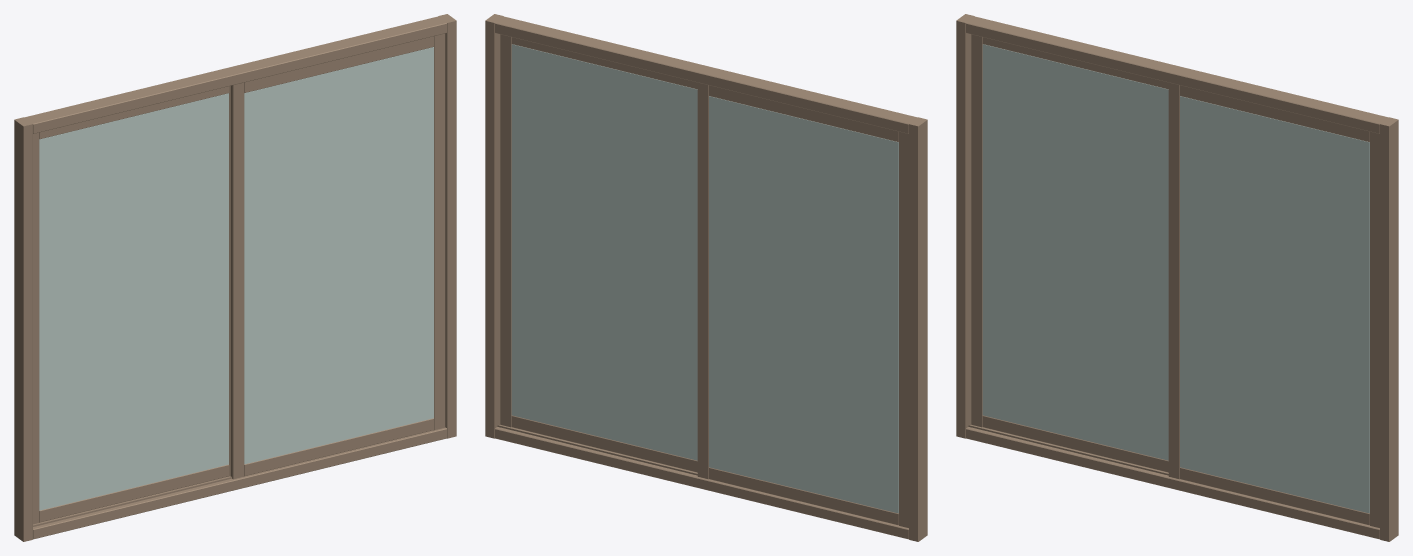
Rendered from co-S90RP-2-quartz-1019.glb.
3 renders of one model, left to right at view 1: azimuth 30°, elevation 25°; view 2: azimuth 150°, elevation 25°; view 3: azimuth 330°, elevation 25°, orthographic.
Visible parts, largest first — view 1: verre, structure; view 2: verre, structure; view 3: verre, structure.
Part boxes in pixels (left/top/right/bottom): verre: left=39, top=47, right=433, bottom=510; structure: left=14, top=14, right=456, bottom=541; verre: left=511, top=44, right=898, bottom=513; structure: left=485, top=14, right=927, bottom=541; verre: left=982, top=44, right=1369, bottom=513; structure: left=956, top=14, right=1398, bottom=541.
Size of the model in its own units: 2.4 by 2.2 by 0.09.
